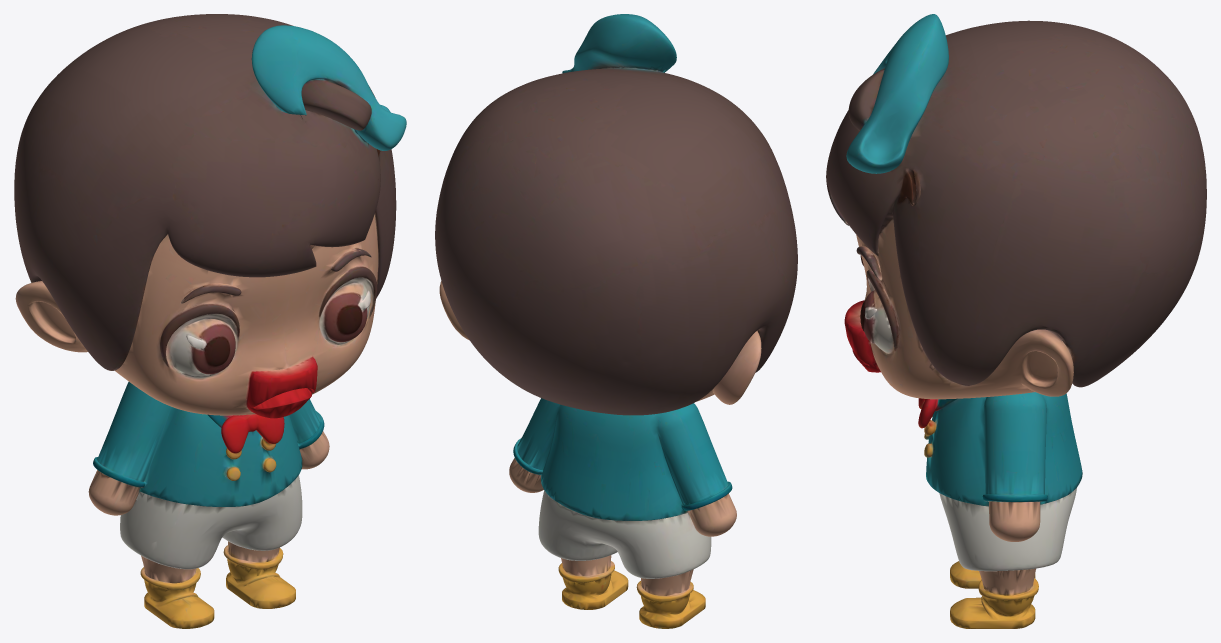
The model's file is Miguel_Donald2.glb.
3 views of the same model, side by side, from view 1: azimuth 30°, elevation 25°; view 2: azimuth 150°, elevation 25°; view 3: azimuth 270°, elevation 25° (orthographic). The views are drawn at different scales.
Visible parts, largest first — view 1: material; view 2: material; view 3: material.
Boxes of the visible parts, x1,y1,x2,y2 form: material: (14, 14, 406, 628); material: (435, 14, 797, 628); material: (826, 14, 1206, 628).
Bounding box in the file's own units: 0.6913 × 1.15 × 0.6689.
1 material, 1 textured.
